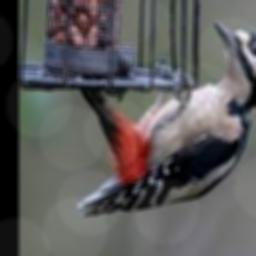Woodpecker: (77, 20, 256, 216)
